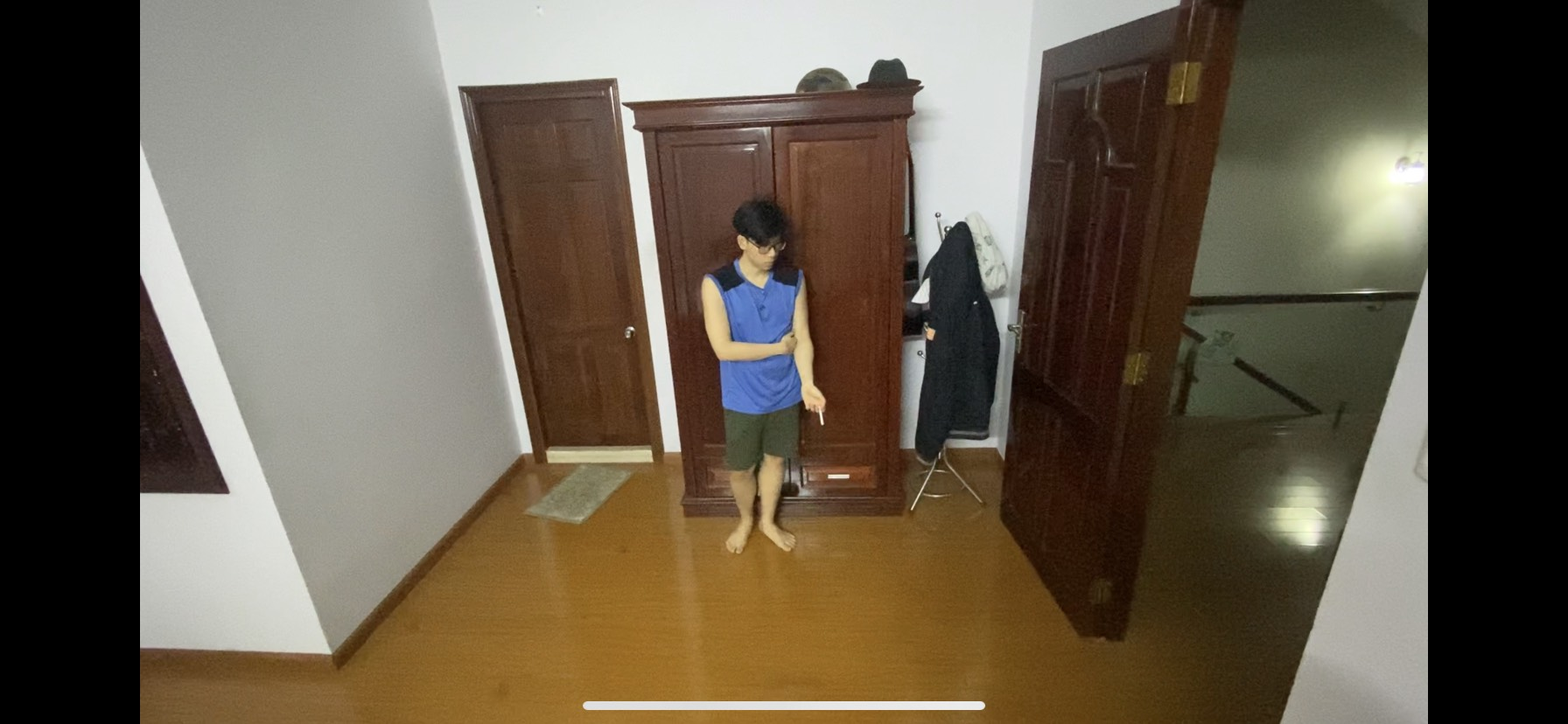cigarette: (815, 407, 831, 428)
person: (682, 189, 836, 575)
